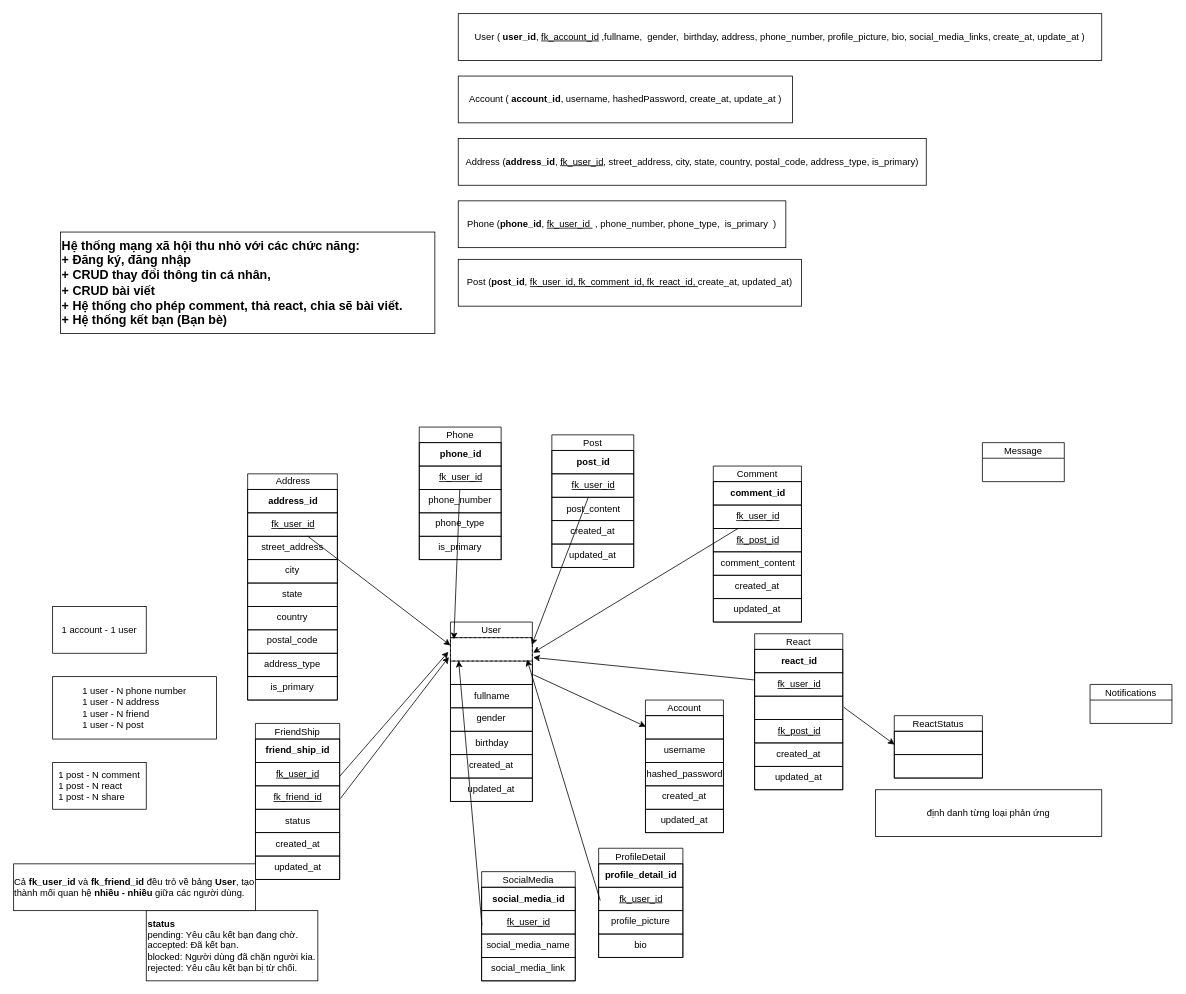
Some shapes in this 1186 by 994 pixel diagram are drawn without their labels. The shapes that lost their labels are listed below. From the top down, each one's centre as x and y in pixels, then its label:
At point (491, 649): "user_id".
At point (491, 672): "fk_account_id".
At point (684, 727): "account_id".
At point (798, 707): "fk_react_status_id".
At point (937, 742): "react_status_id".
At point (937, 766): "react_ststus_name".
